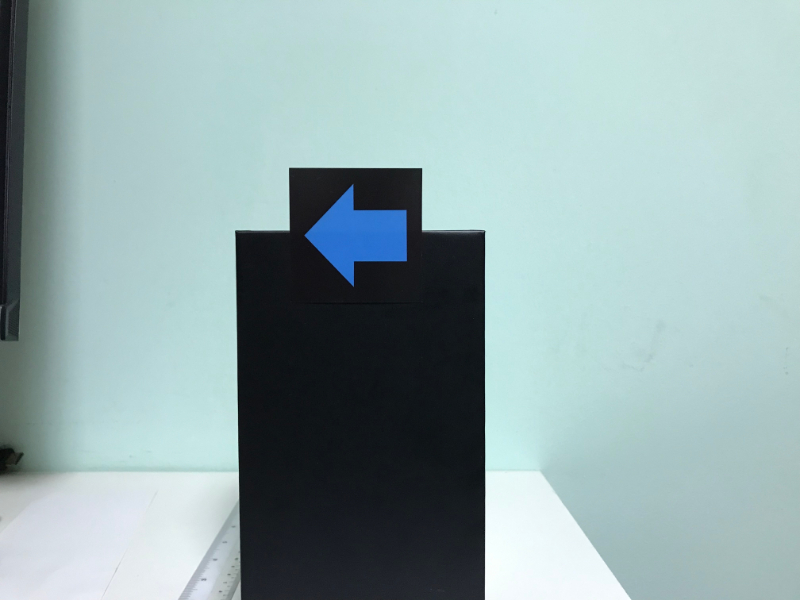LA-4: (292, 170, 420, 304)
